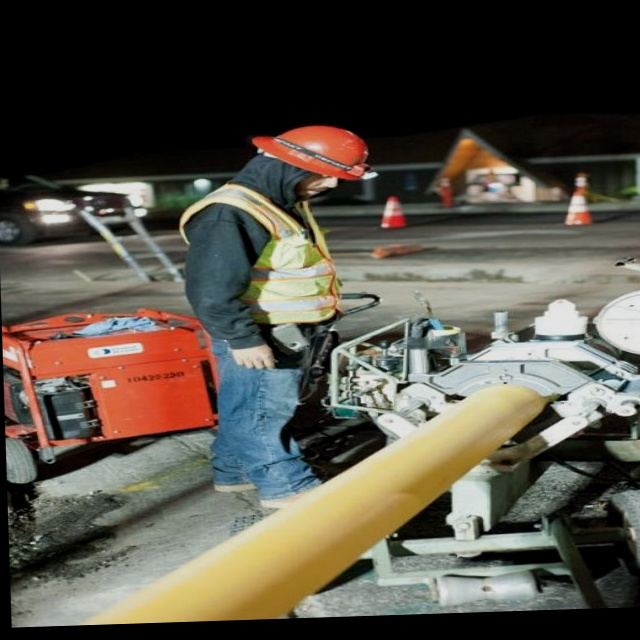Con_Casco: (257, 124, 373, 194)
Con_Chaleco: (173, 191, 344, 331)
